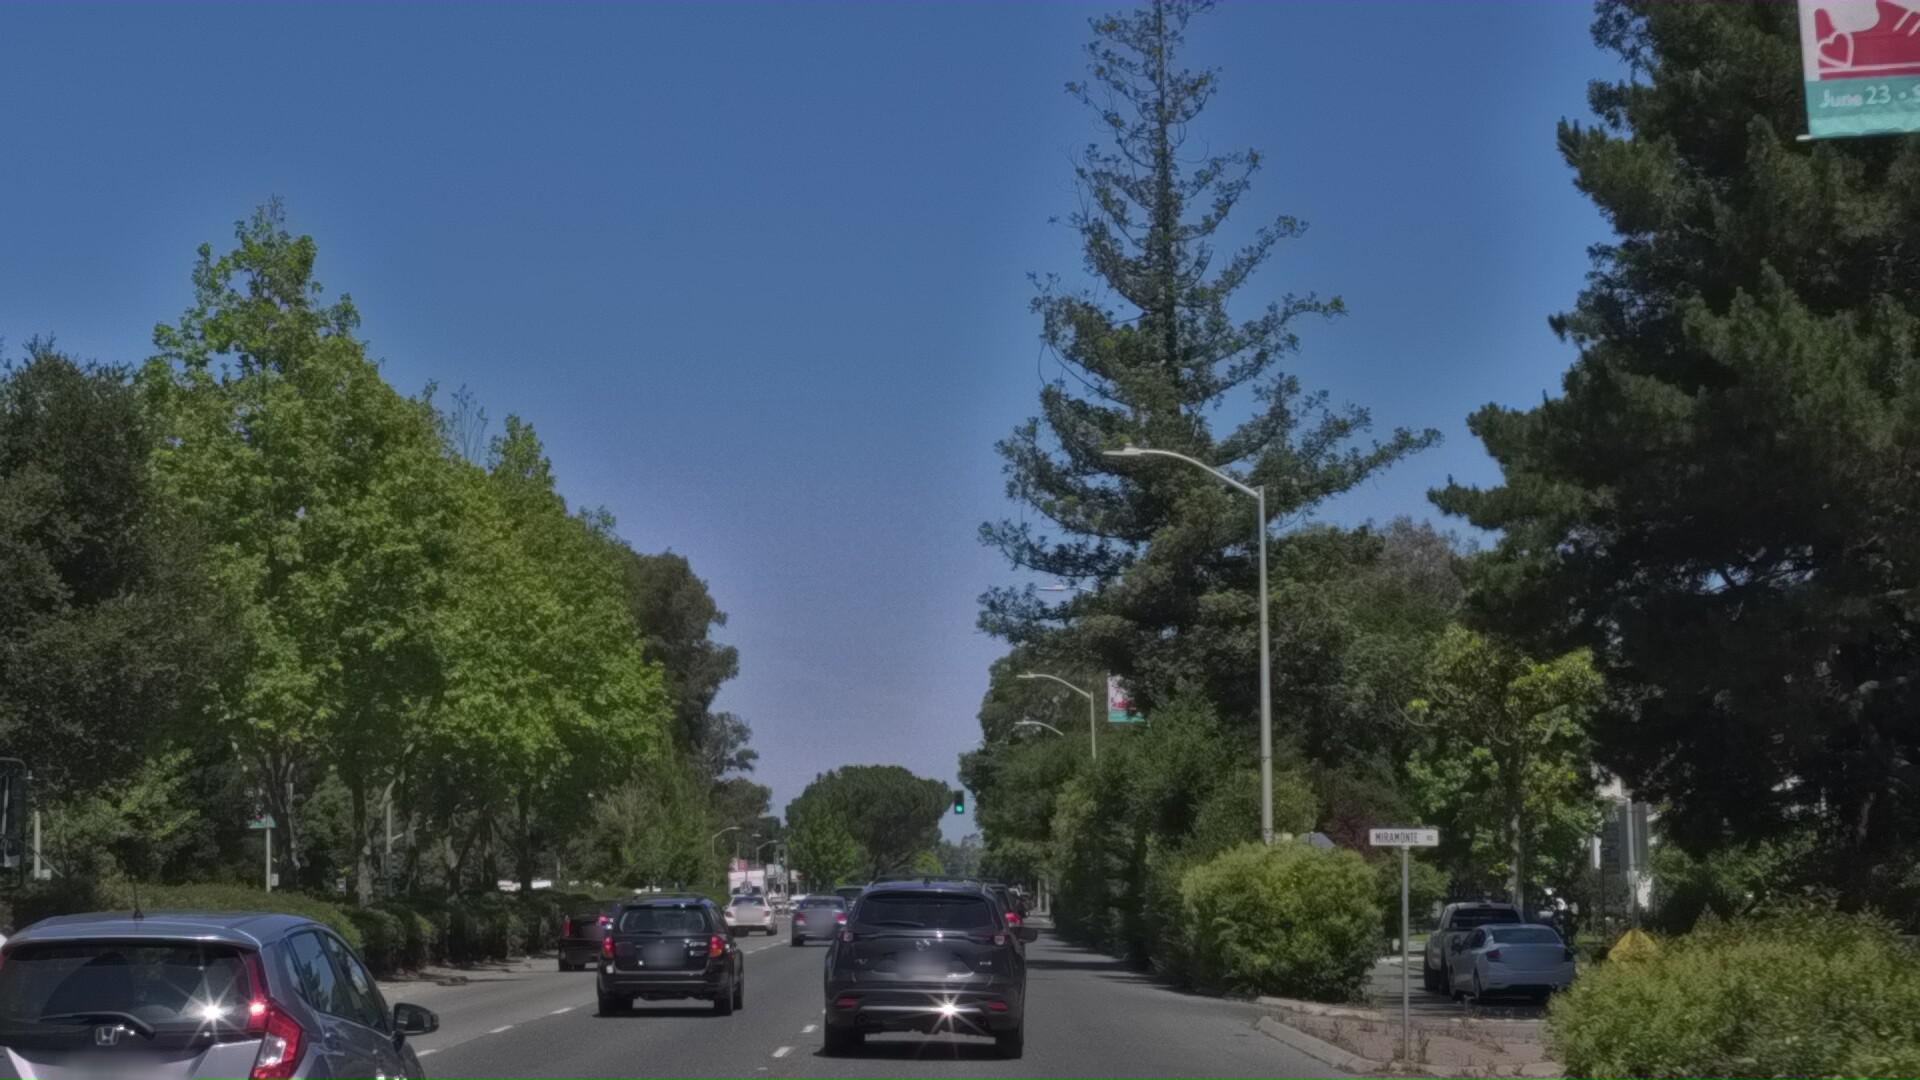car: (802, 945, 1044, 1080), (566, 963, 756, 1080), (891, 969, 1025, 1080), (1414, 989, 1560, 1080), (1443, 1004, 1588, 1080), (545, 986, 666, 1071)
